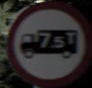Heavy Vehicles: (14, 7, 86, 78)
